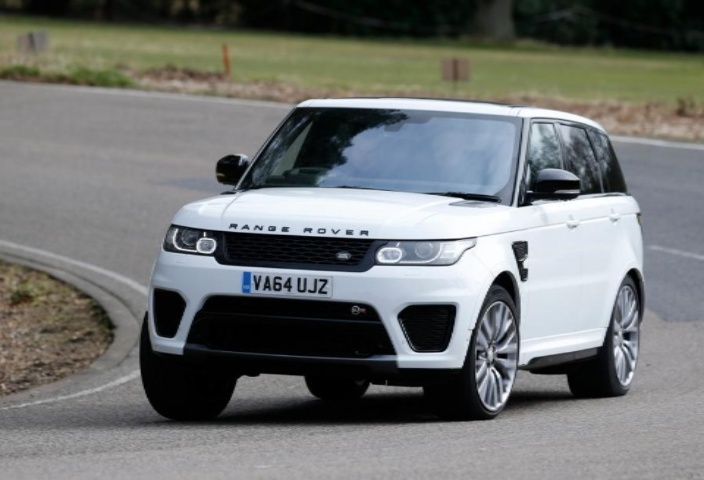camper: (114, 54, 656, 433)
